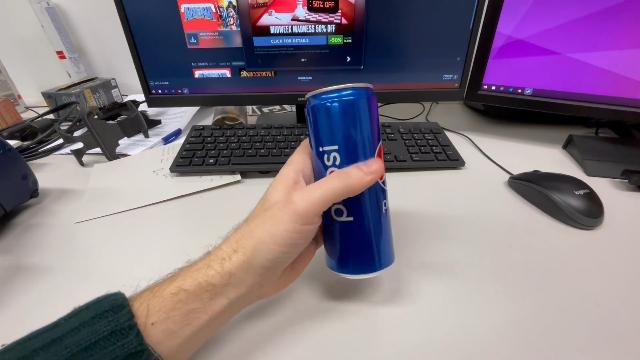Pepsi: (299, 81, 399, 280)
